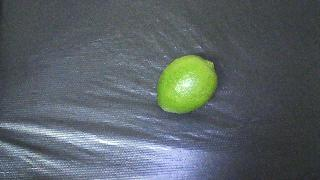LOCAL: (157, 55, 218, 114)
